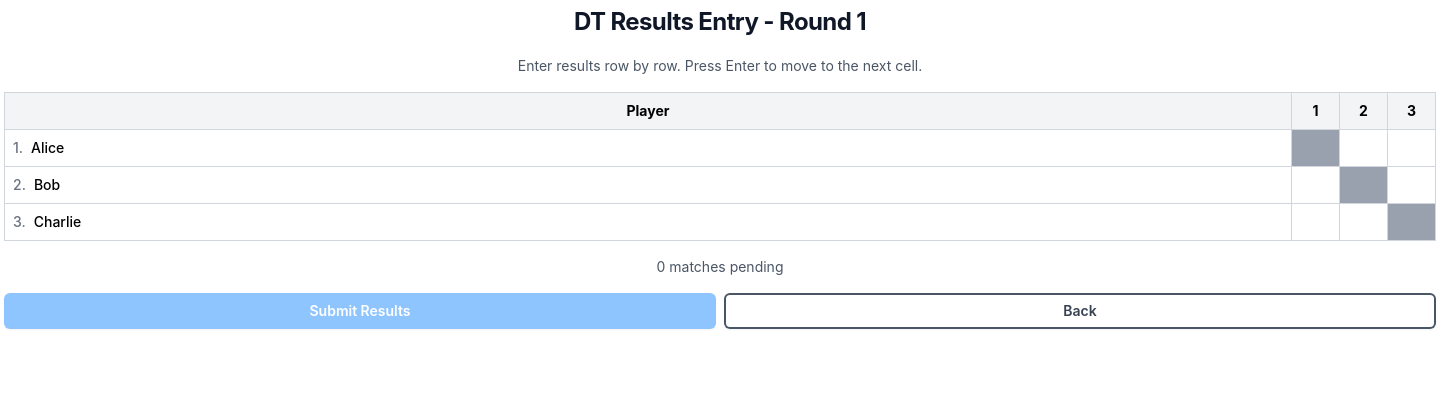
it: BulkMatchEntry › Submit Functionality › should handle network errors
Type "5" into the 1st number field at x=1364, y=148, box x1=1340 y1=136 x2=1387 y2=160
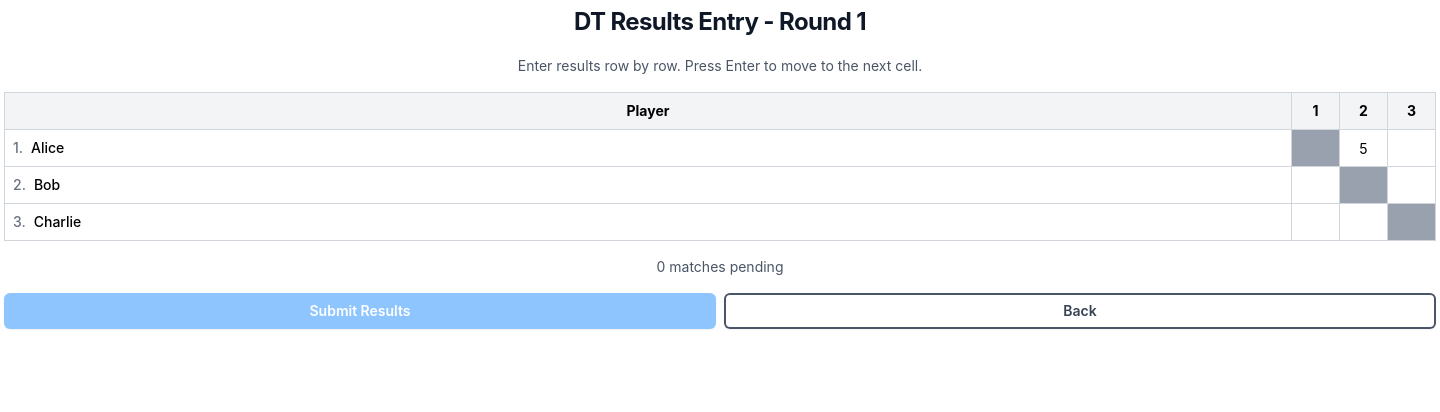
Type "3" into the 3rd number field at x=1316, y=185, box x1=1292 y1=172 x2=1339 y2=198
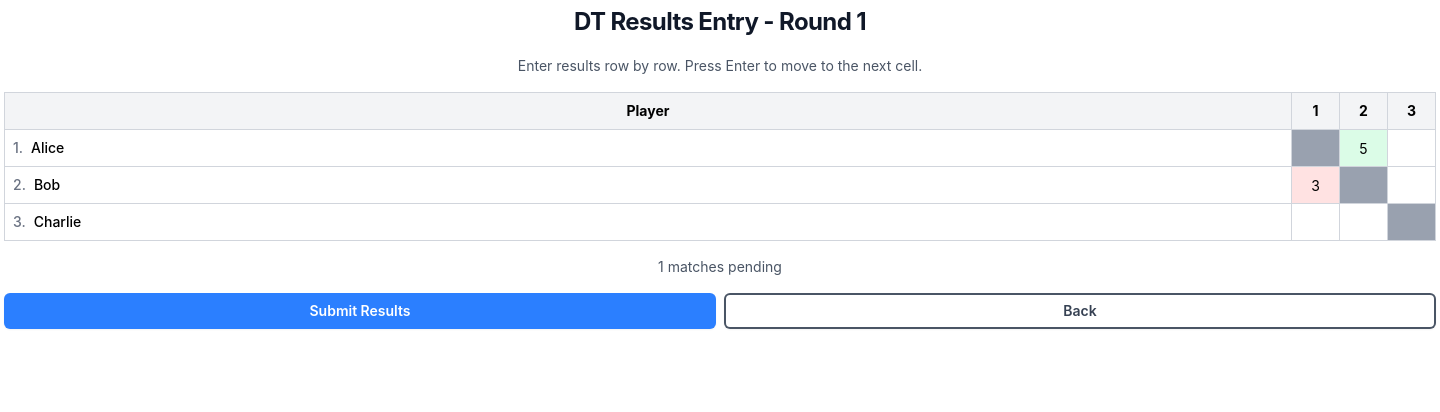
Result: the text "1 matches pending" is shown at x1=658 y1=258 x2=782 y2=275
Click the button "Submit Results" at x=360, y=311, box x1=4 y1=293 x2=716 y2=329
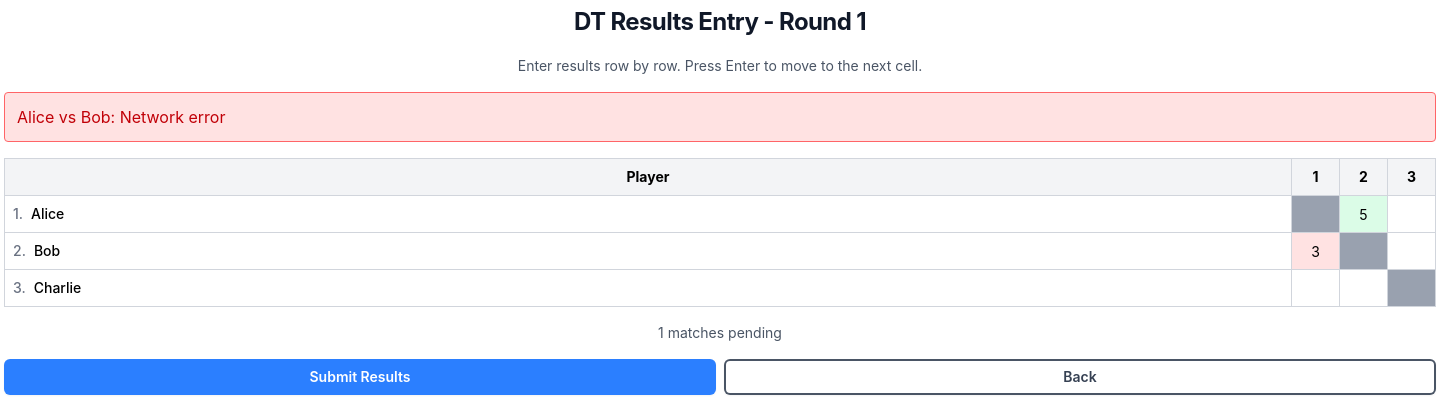
Result: the text "Alice vs Bob: Network error" is shown at x1=4 y1=92 x2=1436 y2=142
